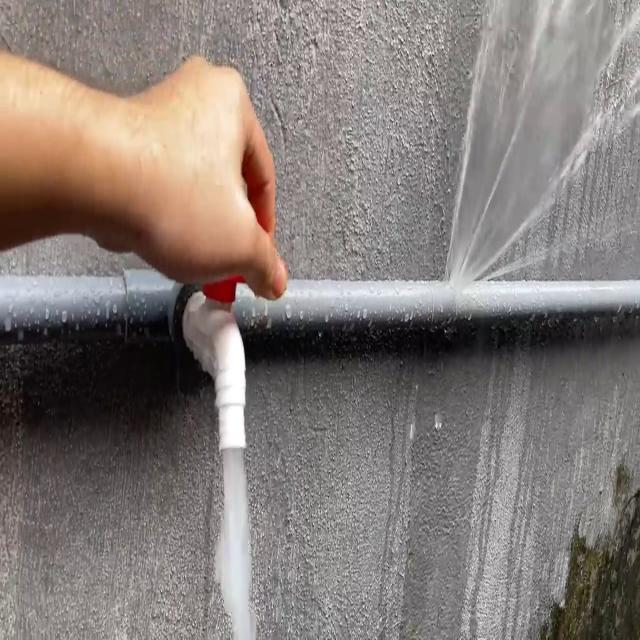leak: (446, 0, 640, 287)
